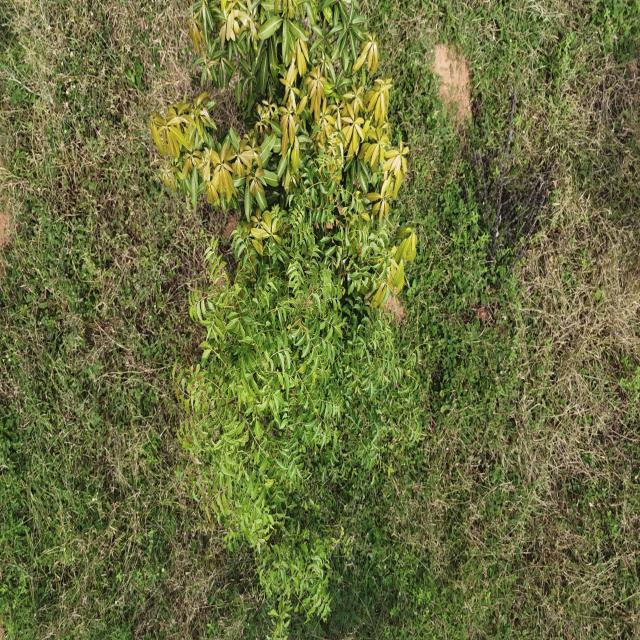mangoTree: (149, 0, 419, 299)
notMangoTree: (169, 215, 426, 640)
